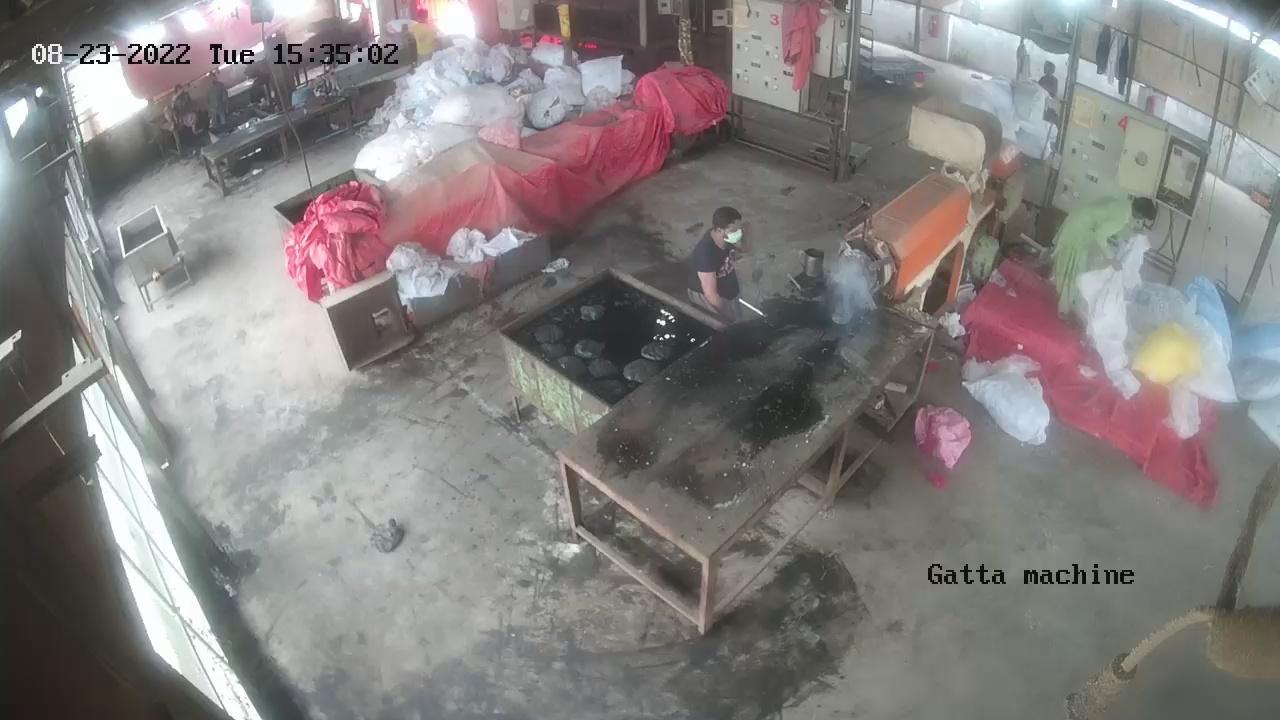person: (696, 208, 741, 310), (1116, 196, 1160, 291)
